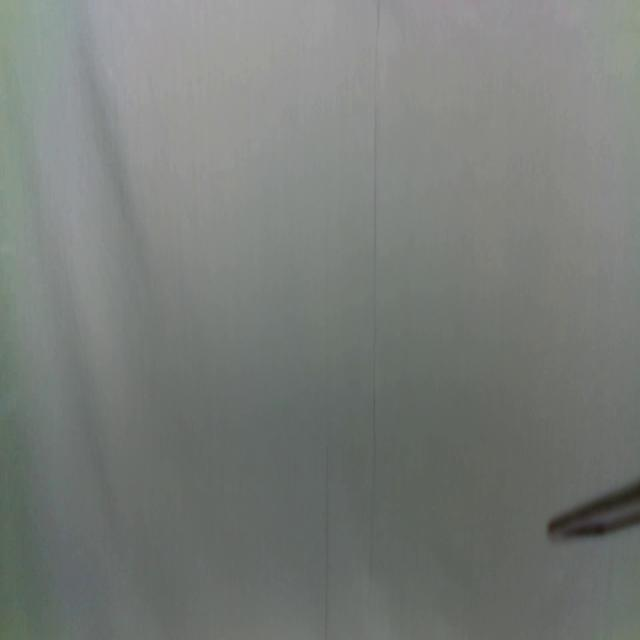crease: (369, 0, 380, 571), (321, 441, 332, 640)
